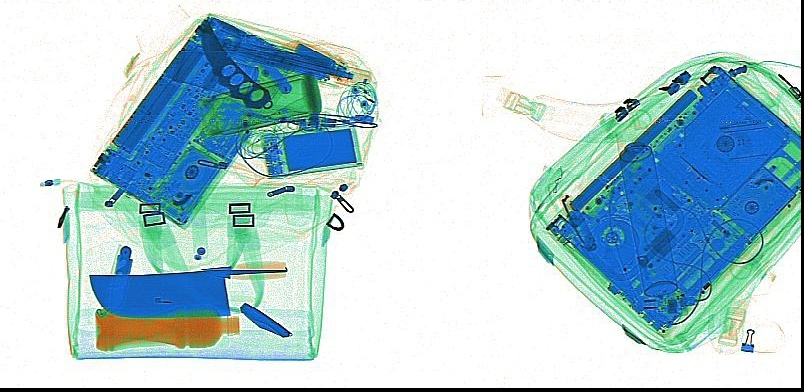knife: (87, 263, 288, 318), (199, 12, 275, 109), (558, 191, 598, 251), (239, 302, 292, 338), (107, 243, 134, 313)
pressure: (618, 142, 678, 299)
zippooil: (169, 47, 260, 97)
